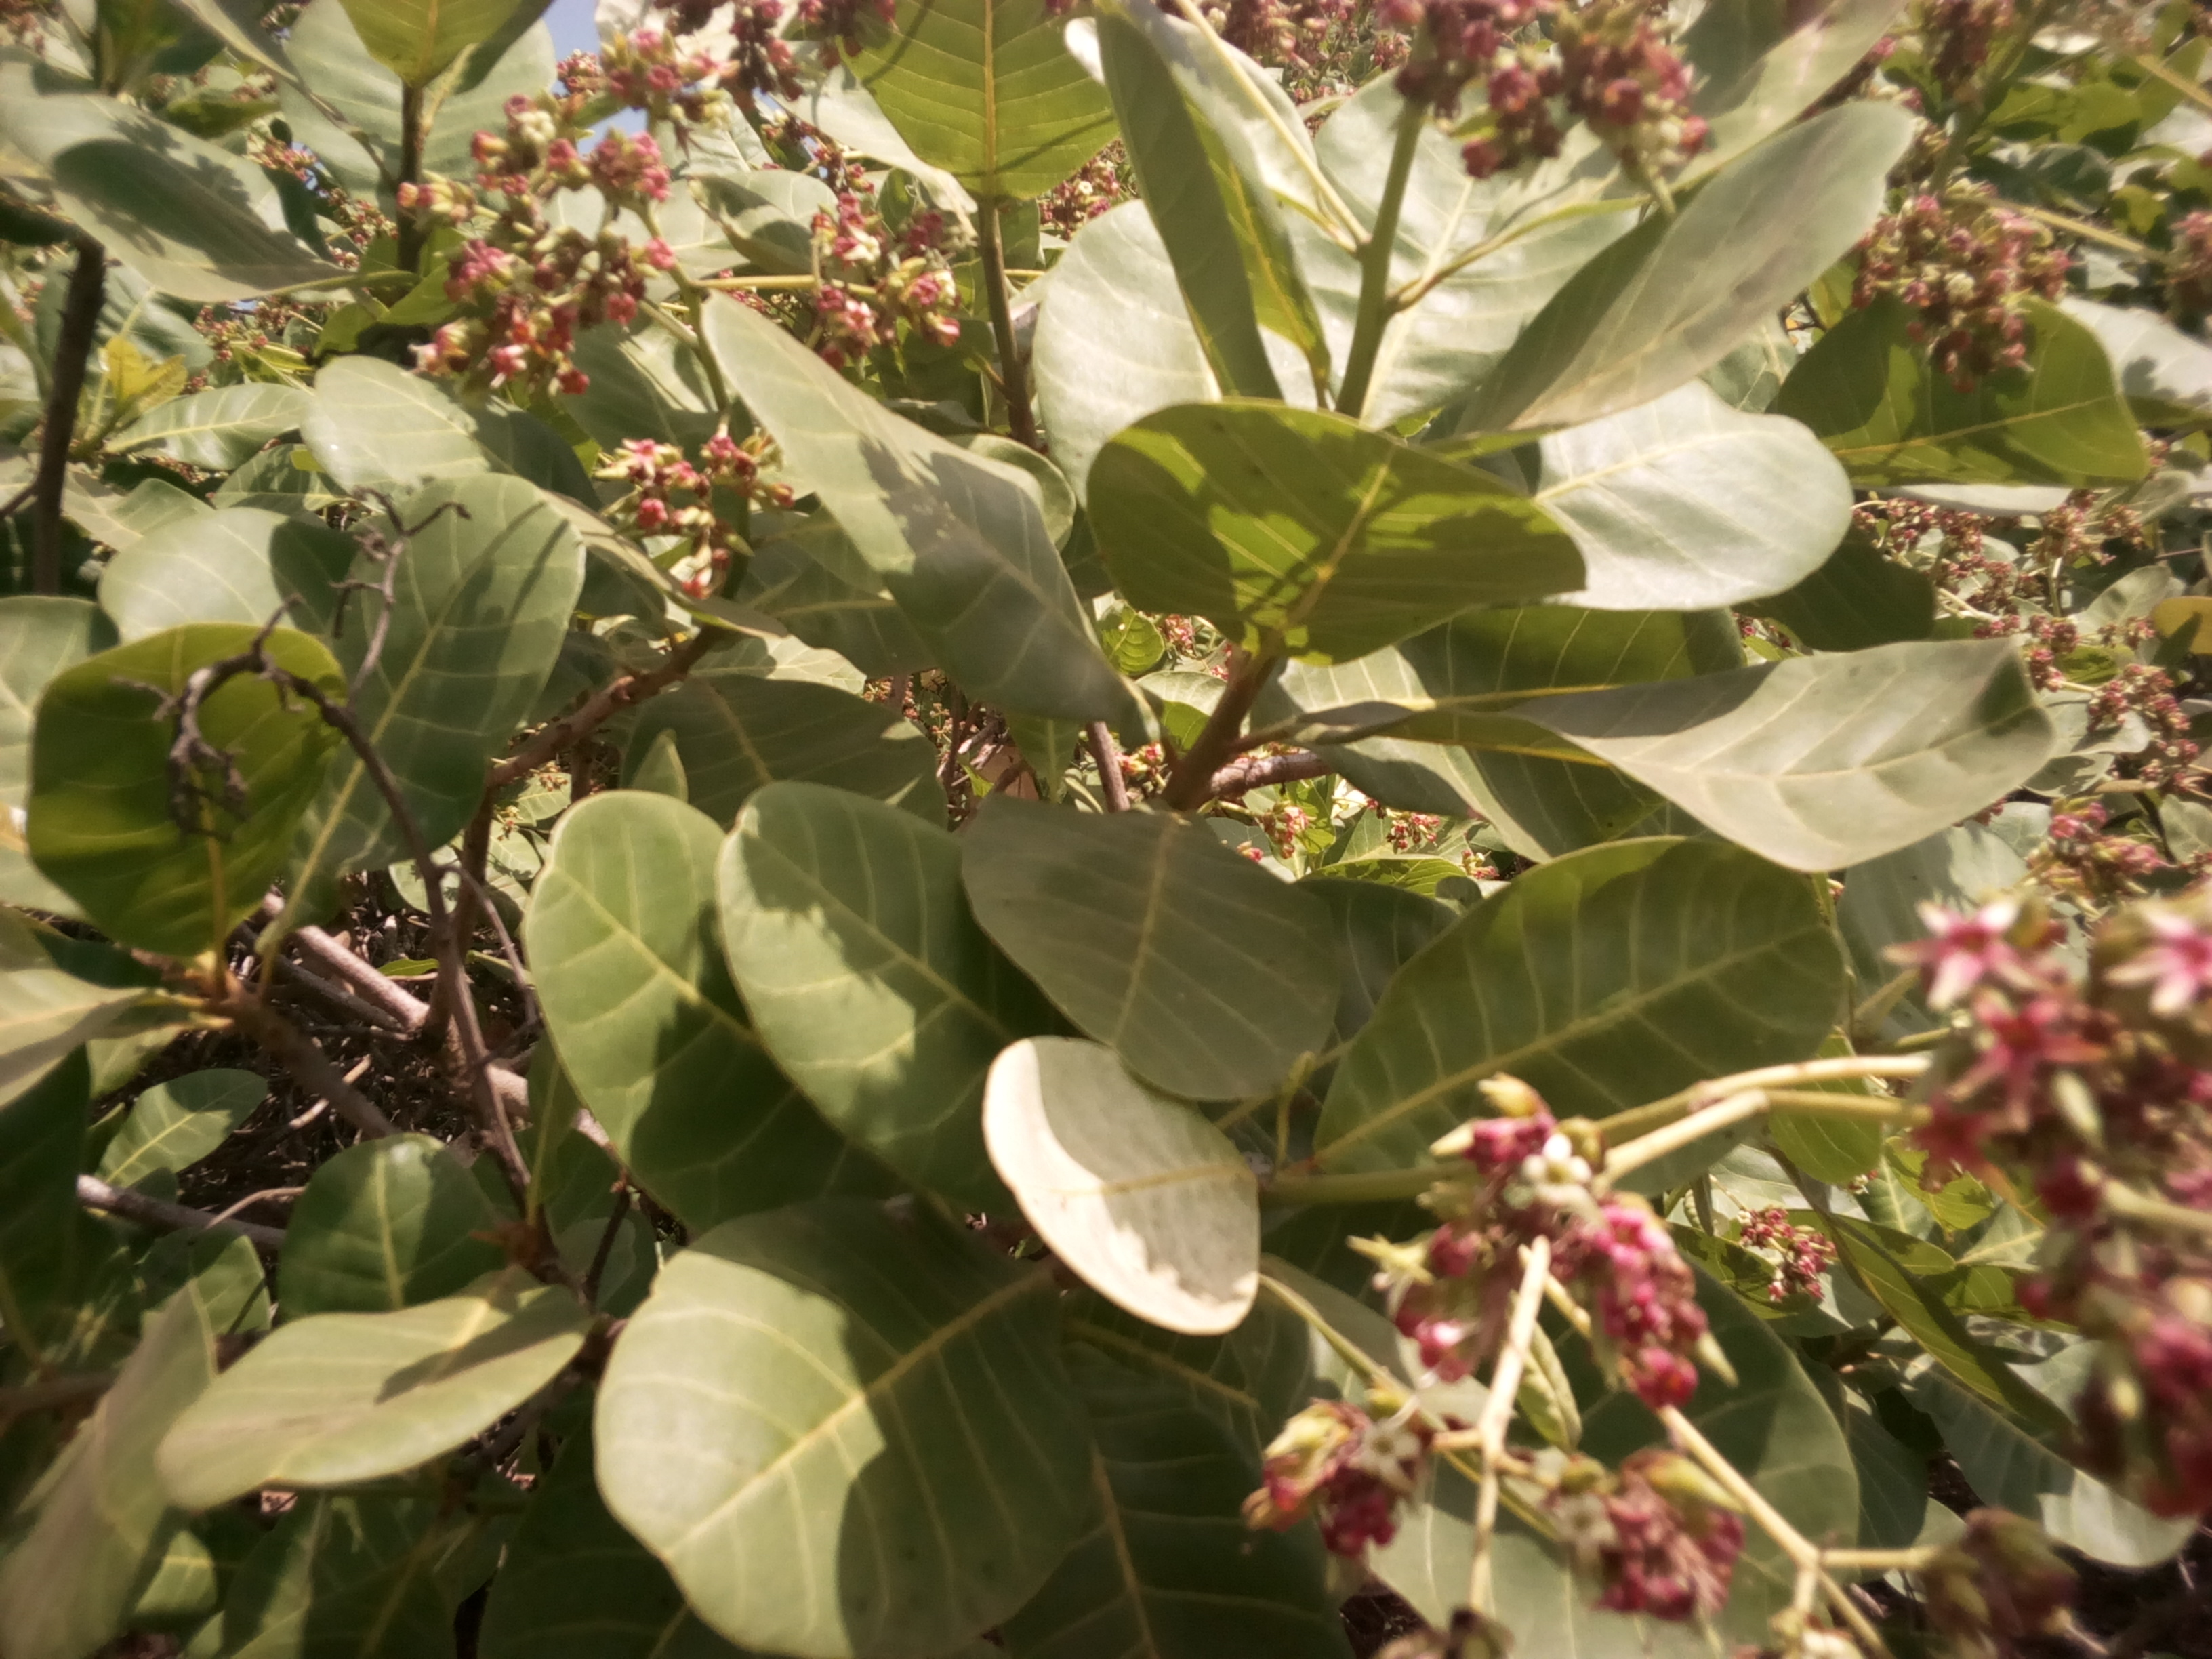Dessèchement des bourgeons: (152, 626, 341, 840)
